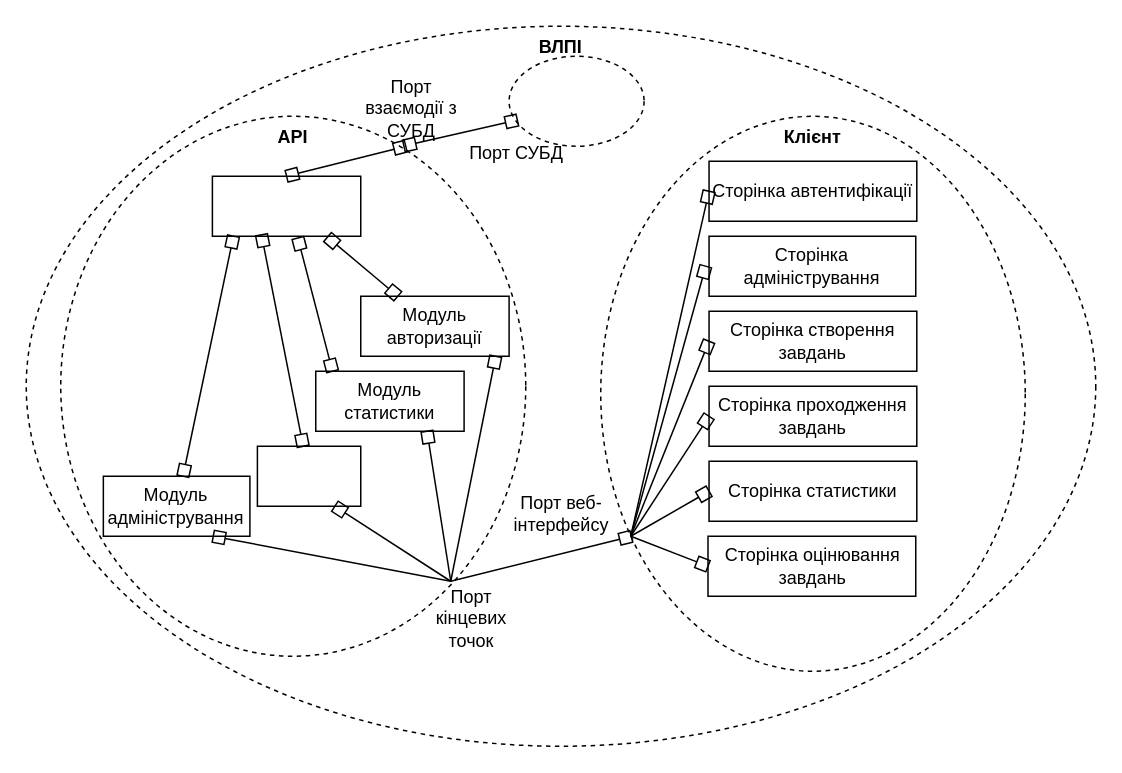
The diagram is 1122 pixels wide and 773 high, and some of its shapes have lost their labels. Each missing label, with the centre of its shape:
БД: point (576, 100)
Модуль доступу до даних: point (286, 205)
Модуль навчання: point (308, 475)
